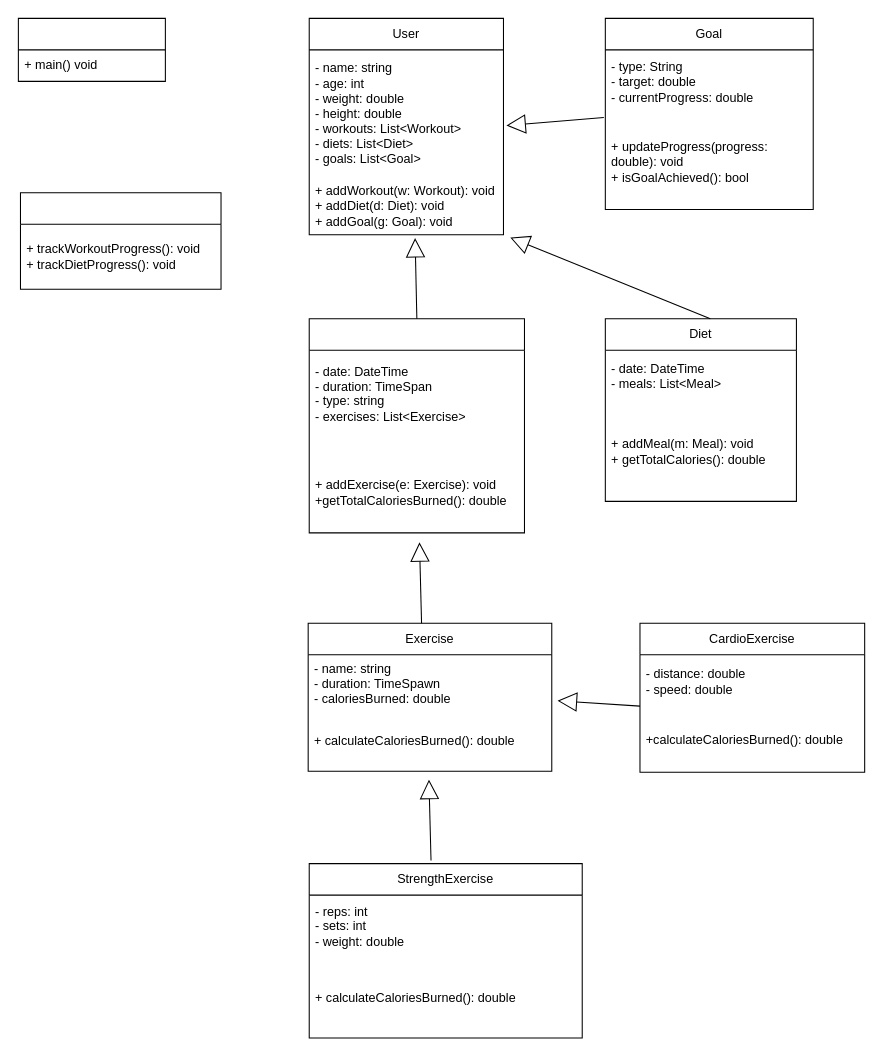
Some shapes in this 883 by 1056 pixel diagram are drawn without their labels. Here are the shapes that lost their labels. From the top down, the box of each, then its label:
(17, 17, 165, 81): Program
(19, 192, 221, 289): ProgressTracker
(308, 318, 524, 533): Workout
